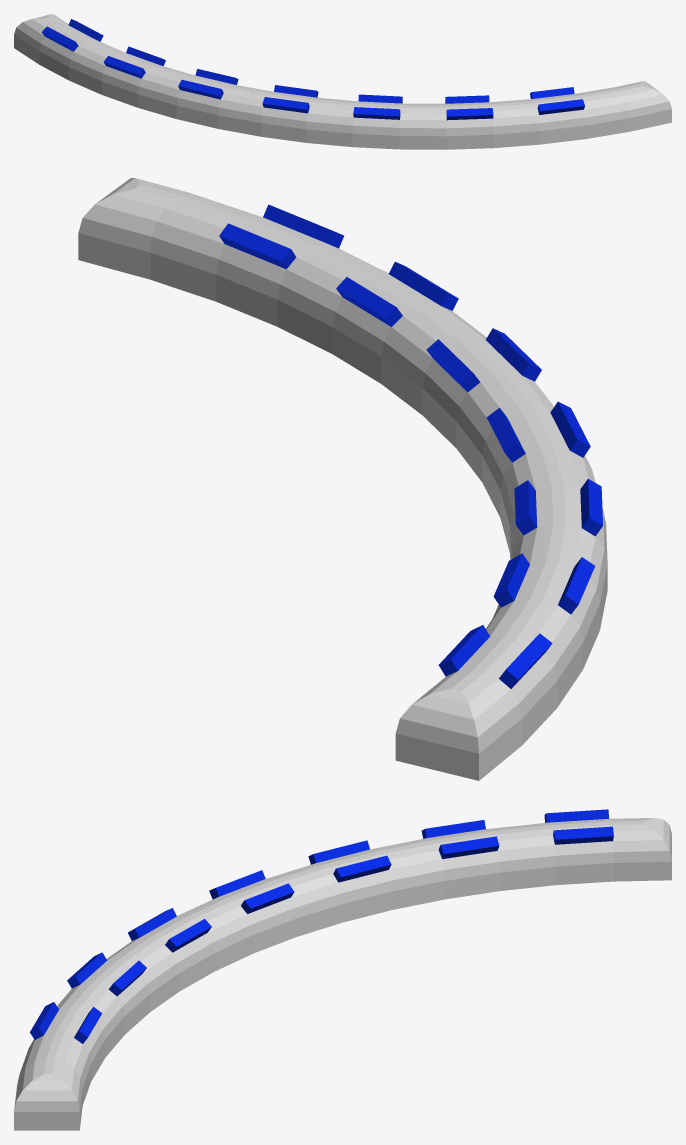
File: MagnetCurved.fbx
3 views of the same model, one above another, from view 1: azimuth 30°, elevation 25°; view 2: azimuth 150°, elevation 25°; view 3: azimuth 270°, elevation 25° (orthographic). The views are drawn at different scales.
Visible parts, largest first — view 1: Curve; view 2: Curve; view 3: Curve.
Boxes of the visible parts, x1,y1,x2,y2 form: Curve: (14, 14, 671, 149); Curve: (78, 178, 607, 780); Curve: (14, 809, 671, 1130).
Bounding box in the file's own units: 1000 × 83.37 × 1000.
